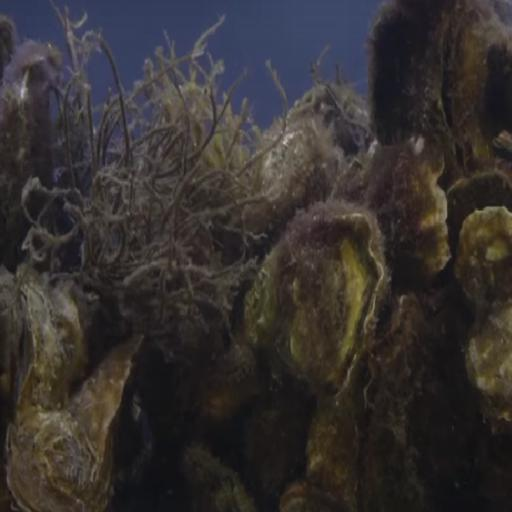Oyster-Closed: (356, 285, 503, 512), (14, 331, 140, 512), (326, 137, 461, 288), (367, 1, 457, 154), (177, 445, 263, 512), (462, 207, 512, 304), (479, 309, 512, 417)
Oyster-Open: (241, 205, 390, 392), (436, 10, 500, 185), (282, 481, 336, 512)
